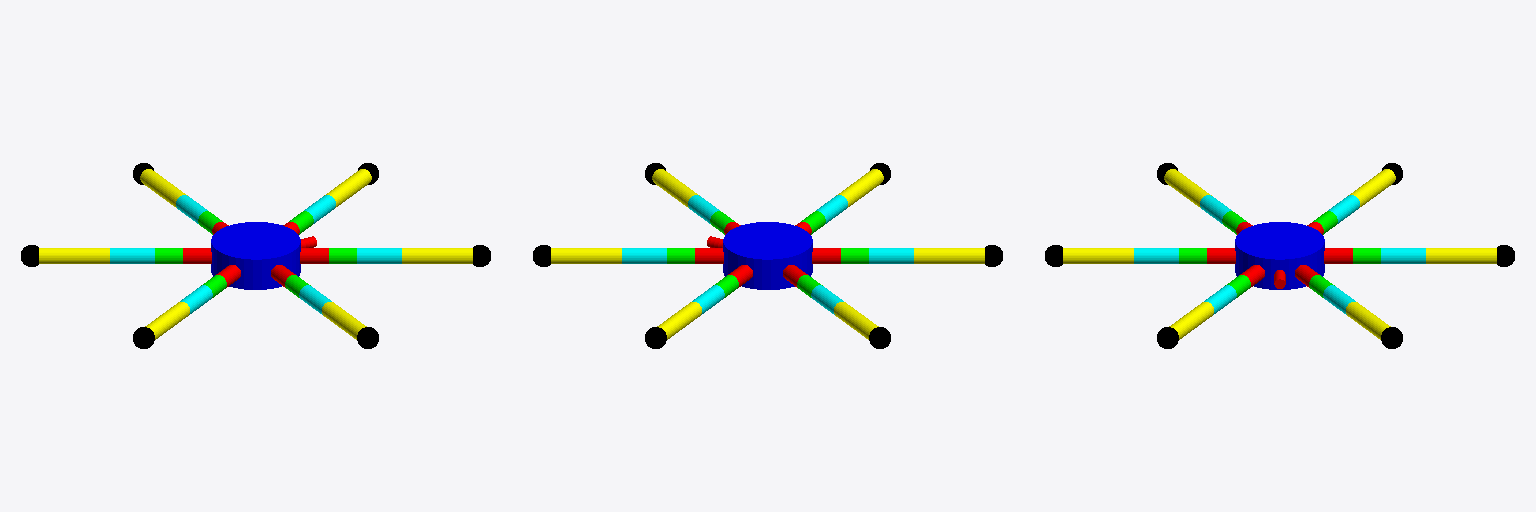
--- Facts derived from the render (not from the file) ---
The picture shows the robot from 3 angles, left to right: view 1: azimuth 30°, elevation 25°; view 2: azimuth 150°, elevation 25°; view 3: azimuth 270°, elevation 25°; orthographic projection.
Model hexapod with 37 links and 36 joints (18 revolute, 18 fixed), rooted at body, posed all joints at 0.
Links seen in each view (by area): view 1: body, d2, d5, d0, d1, d3, d4, c2, c5; view 2: body, d0, d3, d4, d5, d1, d2, c0, c3; view 3: body, d1, d4, d2, d3, d0, d5, c1, c4.
Boxes of the visible links, box(x1,y1,x2,y2) form: body: box(211, 222, 300, 289); d2: box(39, 248, 109, 263); d5: box(402, 248, 472, 263); d0: box(324, 169, 371, 207); d1: box(140, 169, 187, 207); d3: box(145, 302, 189, 339); d4: box(322, 302, 366, 339); c2: box(110, 248, 154, 263); c5: box(357, 248, 401, 263); body: box(723, 222, 812, 289); d0: box(551, 248, 621, 263); d3: box(914, 248, 984, 263); d4: box(836, 169, 883, 207); d5: box(652, 169, 699, 207); d1: box(657, 302, 701, 339); d2: box(834, 302, 878, 339); c0: box(622, 248, 666, 263); c3: box(869, 248, 913, 263); body: box(1235, 222, 1324, 289); d1: box(1426, 248, 1496, 263); d4: box(1063, 248, 1133, 263); d2: box(1348, 169, 1395, 207); d3: box(1164, 169, 1211, 207); d0: box(1346, 302, 1390, 339); d5: box(1169, 302, 1213, 339); c1: box(1381, 248, 1425, 263); c4: box(1134, 248, 1178, 263).
Bounding box of the posed robot: 0.7327 × 0.84 × 0.06 m (x, y, z).
Geometry: primitives only (box / cylinder / sphere), no mesh files.

The robot description file, URDF, robot "hexapod":

<robot name="hexapod">

  <link name="body">
    <visual>
      <geometry>
        <cylinder radius="0.08" length="0.06"/>
      </geometry>
      <origin xyz="0 0 0"/>
      <material name="blue">
        <color rgba="0 0 1 1"/>
      </material>
    </visual>
    <collision>
      <geometry>
        <cylinder radius="0.08" length="0.06"/>
      </geometry>
      <origin xyz="0 0 0"/>
    </collision>
    <inertial>
      <mass value="0.01"/>
      <inertia ixx="0.0001" ixy="0.0" ixz="0.0" iyy="0.0001" iyz="0.0" izz="0.0001"/>
    </inertial>
  </link>


    <link name="h0">
    <visual>
      <geometry>
        <cylinder radius="0.01" length="0.12"/>
      </geometry>
      <origin rpy="0 1.5707963267948966 0" xyz="0.06 0  0" />
      <material name="red">
        <color rgba="1 0 0 1"/>
      </material>
    </visual>
    <collision>
      <geometry>
        <cylinder radius="0.01" length="0.12"/>
      </geometry>
      <origin rpy="0 1.5707963267948966 0" xyz="0.06 0 0" />
    </collision>
    <inertial>
      <mass value="0.1"/>
      <inertia ixx="0.0001" ixy="0.0" ixz="0.0" iyy="0.0001" iyz="0.0" izz="0.0001"/>
    </inertial>
  </link>

  <joint name="h0_to_body" type="fixed">
    <origin rpy="0 0 0" xyz="0 0 0"/>
    <parent link="body"/>
    <child link="h0"/>
  </joint>

  
  <link name="a0">
    <visual>
      <geometry>
        <cylinder radius="0.015" length="0.13"/>
      </geometry>
      <origin rpy="0 1.5707963267948966 0" xyz="0.065 0  0" />
      <material name="red">
        <color rgba="1 0 0 1"/>
      </material>
    </visual>
    <collision>
      <geometry>
        <cylinder radius="0.015" length="0.13"/>
      </geometry>
      <origin rpy="0 1.5707963267948966 0" xyz="0.065 0 0" />
    </collision>
    <inertial>
      <mass value="0.1"/>
      <inertia ixx="0.0001" ixy="0.0" ixz="0.0" iyy="0.0001" iyz="0.0" izz="0.0001"/>
    </inertial>
  </link>

  <joint name="a0_to_body" type="fixed">
    <origin rpy="0 0 0.5235987755982988" xyz="0 0 0"/>
    <parent link="body"/>
    <child link="a0"/>
  </joint>

  <!-- B -->

  <link name="b0">
    <visual>
      <geometry>
        <cylinder radius="0.015" length="0.05"/>
      </geometry>
      <origin rpy="0 1.5707963267948966 0" xyz="0.025 0 0" />
      <material name="green">
        <color rgba="0 1 0 1"/>
      </material>
    </visual>
    <collision>
      <geometry>
        <cylinder radius="0.015" length="0.05"/>
      </geometry>
      <origin rpy="0 1.5707963267948966 0" xyz="0.025 0 0" />
    </collision>
    <inertial>
      <mass value="0.1"/>
      <inertia ixx="0.0001" ixy="0.0" ixz="0.0" iyy="0.0001" iyz="0.0" izz="0.0001"/>
    </inertial>

  </link>

  <joint name="u0" type="revolute">
    <origin rpy="0 0 0" xyz="0.13 0 0"/>
    <parent link="a0"/>
    <child link="b0"/>
    <axis xyz="0 0 1"/>
    <limit effort="100" lower="-3.14" upper="3.14"  velocity="100"/>
  </joint>

  <link name="c0">
    <visual>
      <geometry>
        <cylinder radius="0.015" length="0.08"/>
      </geometry>
      <origin rpy="0 1.5707963267948966 0" xyz="0.04 0 0" />
      <material name="cyan">
        <color rgba="0 1 1 1"/>
      </material>
    </visual>
    <collision>
      <geometry>
        <cylinder radius="0.015" length="0.08"/>
      </geometry>
      <origin rpy="0 1.5707963267948966 0" xyz="0.04 0 0" />
    </collision>
    <inertial>
      <mass value="0.1"/>
      <inertia ixx="0.0001" ixy="0.0" ixz="0.0" iyy="0.0001" iyz="0.0" izz="0.0001"/>
    </inertial>

  </link>

  <joint name="v0" type="revolute">
    <origin rpy="0 0 0" xyz="0.05 0 0"/>
    <parent link="b0"/>
    <child link="c0"/>
    <axis xyz="0 1 0"/>
    <limit effort="100" lower="-3.14" upper="3.14"  velocity="100"/>
  </joint>

  <link name="d0">
    <visual>
      <geometry>
        <cylinder radius="0.015" length="0.14"/>
      </geometry>
      <origin rpy="0 1.5707963267948966 0" xyz="0.07 0 0" />
      <material name="jaune">
        <color rgba="1 1 0 1"/>
      </material>
    </visual>
    <collision>
      <geometry>
        <cylinder radius="0.015" length="0.14"/>
      </geometry>
      <origin rpy="0 1.5707963267948966 0" xyz="0.07 0 0" />
    </collision>
    <inertial>
      <mass value="0.1"/>
      <inertia ixx="0.0001" ixy="0.0" ixz="0.0" iyy="0.0001" iyz="0.0" izz="0.0001"/>
    </inertial>

  </link>

  <joint name="w0" type="revolute">
    <origin rpy="0 0 0" xyz="0.08 0 0"/>
    <parent link="c0"/>
    <child link="d0"/>
    <axis xyz="0 1 0"/>
    <limit effort="100" lower="-3.14"  upper="3.14"  velocity="100"/>
  </joint>

  <link name="e0">
    <visual>
      <geometry>
        <sphere radius="0.02"/>
      </geometry>
      <origin rpy="0 0 0" xyz="0 0 0" />
      <material name="noir">
        <color rgba="0 0 0 1"/>
      </material>
    </visual>
    <collision>
      <geometry>
        <sphere radius="0.02"/>
      </geometry>
      <origin rpy="0 0 0" xyz="0 0 0" />
    </collision>
    <inertial>
      <mass value="0.01"/>
      <inertia ixx="0.0001" ixy="0.0" ixz="0.0" iyy="0.0001" iyz="0.0" izz="0.0001"/>
    </inertial>

  </link>

  <joint name="x0" type="fixed">
    <origin rpy="0 0 0" xyz="0.14 0 0"/>
    <parent link="d0"/>
    <child link="e0"/>
  </joint>


    <link name="h1">
    <visual>
      <geometry>
        <cylinder radius="0.01" length="0.12"/>
      </geometry>
      <origin rpy="0 1.5707963267948966 0" xyz="0.06 0  0" />
      <material name="red">
        <color rgba="1 0 0 1"/>
      </material>
    </visual>
    <collision>
      <geometry>
        <cylinder radius="0.01" length="0.12"/>
      </geometry>
      <origin rpy="0 1.5707963267948966 0" xyz="0.06 0 0" />
    </collision>
    <inertial>
      <mass value="0.1"/>
      <inertia ixx="0.0001" ixy="0.0" ixz="0.0" iyy="0.0001" iyz="0.0" izz="0.0001"/>
    </inertial>
  </link>

  <joint name="h1_to_body" type="fixed">
    <origin rpy="0 0 0" xyz="0 0 0"/>
    <parent link="body"/>
    <child link="h1"/>
  </joint>

  
  <link name="a1">
    <visual>
      <geometry>
        <cylinder radius="0.015" length="0.13"/>
      </geometry>
      <origin rpy="0 1.5707963267948966 0" xyz="0.065 0  0" />
      <material name="red">
        <color rgba="1 0 0 1"/>
      </material>
    </visual>
    <collision>
      <geometry>
        <cylinder radius="0.015" length="0.13"/>
      </geometry>
      <origin rpy="0 1.5707963267948966 0" xyz="0.065 0 0" />
    </collision>
    <inertial>
      <mass value="0.1"/>
      <inertia ixx="0.0001" ixy="0.0" ixz="0.0" iyy="0.0001" iyz="0.0" izz="0.0001"/>
    </inertial>
  </link>

  <joint name="a1_to_body" type="fixed">
    <origin rpy="0 0 1.5707963267948966" xyz="0 0 0"/>
    <parent link="body"/>
    <child link="a1"/>
  </joint>

  <!-- B -->

  <link name="b1">
    <visual>
      <geometry>
        <cylinder radius="0.015" length="0.05"/>
      </geometry>
      <origin rpy="0 1.5707963267948966 0" xyz="0.025 0 0" />
      <material name="green">
        <color rgba="0 1 0 1"/>
      </material>
    </visual>
    <collision>
      <geometry>
        <cylinder radius="0.015" length="0.05"/>
      </geometry>
      <origin rpy="0 1.5707963267948966 0" xyz="0.025 0 0" />
    </collision>
    <inertial>
      <mass value="0.1"/>
      <inertia ixx="0.0001" ixy="0.0" ixz="0.0" iyy="0.0001" iyz="0.0" izz="0.0001"/>
    </inertial>

  </link>

  <joint name="u1" type="revolute">
    <origin rpy="0 0 0" xyz="0.13 0 0"/>
    <parent link="a1"/>
    <child link="b1"/>
    <axis xyz="0 0 1"/>
    <limit effort="100" lower="-3.14" upper="3.14"  velocity="100"/>
  </joint>

  <link name="c1">
    <visual>
      <geometry>
        <cylinder radius="0.015" length="0.08"/>
      </geometry>
      <origin rpy="0 1.5707963267948966 0" xyz="0.04 0 0" />
      <material name="cyan">
        <color rgba="0 1 1 1"/>
      </material>
    </visual>
    <collision>
      <geometry>
        <cylinder radius="0.015" length="0.08"/>
      </geometry>
      <origin rpy="0 1.5707963267948966 0" xyz="0.04 0 0" />
    </collision>
    <inertial>
      <mass value="0.1"/>
      <inertia ixx="0.0001" ixy="0.0" ixz="0.0" iyy="0.0001" iyz="0.0" izz="0.0001"/>
    </inertial>

  </link>

  <joint name="v1" type="revolute">
    <origin rpy="0 0 0" xyz="0.05 0 0"/>
    <parent link="b1"/>
    <child link="c1"/>
    <axis xyz="0 1 0"/>
    <limit effort="100" lower="-3.14" upper="3.14"  velocity="100"/>
  </joint>

  <link name="d1">
    <visual>
      <geometry>
        <cylinder radius="0.015" length="0.14"/>
      </geometry>
      <origin rpy="0 1.5707963267948966 0" xyz="0.07 0 0" />
      <material name="jaune">
        <color rgba="1 1 0 1"/>
      </material>
    </visual>
    <collision>
      <geometry>
        <cylinder radius="0.015" length="0.14"/>
      </geometry>
      <origin rpy="0 1.5707963267948966 0" xyz="0.07 0 0" />
    </collision>
    <inertial>
      <mass value="0.1"/>
      <inertia ixx="0.0001" ixy="0.0" ixz="0.0" iyy="0.0001" iyz="0.0" izz="0.0001"/>
    </inertial>

  </link>

  <joint name="w1" type="revolute">
    <origin rpy="0 0 0" xyz="0.08 0 0"/>
    <parent link="c1"/>
    <child link="d1"/>
    <axis xyz="0 1 0"/>
    <limit effort="100" lower="-3.14"  upper="3.14"  velocity="100"/>
  </joint>

  <link name="e1">
    <visual>
      <geometry>
        <sphere radius="0.02"/>
      </geometry>
      <origin rpy="0 0 0" xyz="0 0 0" />
      <material name="noir">
        <color rgba="0 0 0 1"/>
      </material>
    </visual>
    <collision>
      <geometry>
        <sphere radius="0.02"/>
      </geometry>
      <origin rpy="0 0 0" xyz="0 0 0" />
    </collision>
    <inertial>
      <mass value="0.01"/>
      <inertia ixx="0.0001" ixy="0.0" ixz="0.0" iyy="0.0001" iyz="0.0" izz="0.0001"/>
    </inertial>

  </link>

  <joint name="x1" type="fixed">
    <origin rpy="0 0 0" xyz="0.14 0 0"/>
    <parent link="d1"/>
    <child link="e1"/>
  </joint>


    <link name="h2">
    <visual>
      <geometry>
        <cylinder radius="0.01" length="0.12"/>
      </geometry>
      <origin rpy="0 1.5707963267948966 0" xyz="0.06 0  0" />
      <material name="red">
        <color rgba="1 0 0 1"/>
      </material>
    </visual>
    <collision>
      <geometry>
        <cylinder radius="0.01" length="0.12"/>
      </geometry>
      <origin rpy="0 1.5707963267948966 0" xyz="0.06 0 0" />
    </collision>
    <inertial>
      <mass value="0.1"/>
      <inertia ixx="0.0001" ixy="0.0" ixz="0.0" iyy="0.0001" iyz="0.0" izz="0.0001"/>
    </inertial>
  </link>

  <joint name="h2_to_body" type="fixed">
    <origin rpy="0 0 0" xyz="0 0 0"/>
    <parent link="body"/>
    <child link="h2"/>
  </joint>

  
  <link name="a2">
    <visual>
      <geometry>
        <cylinder radius="0.015" length="0.13"/>
      </geometry>
      <origin rpy="0 1.5707963267948966 0" xyz="0.065 0  0" />
      <material name="red">
        <color rgba="1 0 0 1"/>
      </material>
    </visual>
    <collision>
      <geometry>
        <cylinder radius="0.015" length="0.13"/>
      </geometry>
      <origin rpy="0 1.5707963267948966 0" xyz="0.065 0 0" />
    </collision>
    <inertial>
      <mass value="0.1"/>
      <inertia ixx="0.0001" ixy="0.0" ixz="0.0" iyy="0.0001" iyz="0.0" izz="0.0001"/>
    </inertial>
  </link>

  <joint name="a2_to_body" type="fixed">
    <origin rpy="0 0 2.617993877991494" xyz="0 0 0"/>
    <parent link="body"/>
    <child link="a2"/>
  </joint>

  <!-- B -->

  <link name="b2">
    <visual>
      <geometry>
        <cylinder radius="0.015" length="0.05"/>
      </geometry>
      <origin rpy="0 1.5707963267948966 0" xyz="0.025 0 0" />
      <material name="green">
        <color rgba="0 1 0 1"/>
      </material>
    </visual>
    <collision>
      <geometry>
        <cylinder radius="0.015" length="0.05"/>
      </geometry>
      <origin rpy="0 1.5707963267948966 0" xyz="0.025 0 0" />
    </collision>
    <inertial>
      <mass value="0.1"/>
      <inertia ixx="0.0001" ixy="0.0" ixz="0.0" iyy="0.0001" iyz="0.0" izz="0.0001"/>
    </inertial>

  </link>

  <joint name="u2" type="revolute">
    <origin rpy="0 0 0" xyz="0.13 0 0"/>
    <parent link="a2"/>
    <child link="b2"/>
    <axis xyz="0 0 1"/>
    <limit effort="100" lower="-3.14" upper="3.14"  velocity="100"/>
  </joint>

  <link name="c2">
    <visual>
      <geometry>
        <cylinder radius="0.015" length="0.08"/>
      </geometry>
      <origin rpy="0 1.5707963267948966 0" xyz="0.04 0 0" />
      <material name="cyan">
        <color rgba="0 1 1 1"/>
      </material>
    </visual>
    <collision>
      <geometry>
        <cylinder radius="0.015" length="0.08"/>
      </geometry>
      <origin rpy="0 1.5707963267948966 0" xyz="0.04 0 0" />
    </collision>
    <inertial>
      <mass value="0.1"/>
      <inertia ixx="0.0001" ixy="0.0" ixz="0.0" iyy="0.0001" iyz="0.0" izz="0.0001"/>
    </inertial>

  </link>

  <joint name="v2" type="revolute">
    <origin rpy="0 0 0" xyz="0.05 0 0"/>
    <parent link="b2"/>
    <child link="c2"/>
    <axis xyz="0 1 0"/>
    <limit effort="100" lower="-3.14" upper="3.14"  velocity="100"/>
  </joint>

  <link name="d2">
    <visual>
      <geometry>
        <cylinder radius="0.015" length="0.14"/>
      </geometry>
      <origin rpy="0 1.5707963267948966 0" xyz="0.07 0 0" />
      <material name="jaune">
        <color rgba="1 1 0 1"/>
      </material>
    </visual>
    <collision>
      <geometry>
        <cylinder radius="0.015" length="0.14"/>
      </geometry>
      <origin rpy="0 1.5707963267948966 0" xyz="0.07 0 0" />
    </collision>
    <inertial>
      <mass value="0.1"/>
      <inertia ixx="0.0001" ixy="0.0" ixz="0.0" iyy="0.0001" iyz="0.0" izz="0.0001"/>
    </inertial>

  </link>

  <joint name="w2" type="revolute">
    <origin rpy="0 0 0" xyz="0.08 0 0"/>
    <parent link="c2"/>
    <child link="d2"/>
    <axis xyz="0 1 0"/>
    <limit effort="100" lower="-3.14"  upper="3.14"  velocity="100"/>
  </joint>

  <link name="e2">
    <visual>
      <geometry>
        <sphere radius="0.02"/>
      </geometry>
      <origin rpy="0 0 0" xyz="0 0 0" />
      <material name="noir">
        <color rgba="0 0 0 1"/>
      </material>
    </visual>
    <collision>
      <geometry>
        <sphere radius="0.02"/>
      </geometry>
      <origin rpy="0 0 0" xyz="0 0 0" />
    </collision>
    <inertial>
      <mass value="0.01"/>
      <inertia ixx="0.0001" ixy="0.0" ixz="0.0" iyy="0.0001" iyz="0.0" izz="0.0001"/>
    </inertial>

  </link>

  <joint name="x2" type="fixed">
    <origin rpy="0 0 0" xyz="0.14 0 0"/>
    <parent link="d2"/>
    <child link="e2"/>
  </joint>


    <link name="h3">
    <visual>
      <geometry>
        <cylinder radius="0.01" length="0.12"/>
      </geometry>
      <origin rpy="0 1.5707963267948966 0" xyz="0.06 0  0" />
      <material name="red">
        <color rgba="1 0 0 1"/>
      </material>
    </visual>
    <collision>
      <geometry>
        <cylinder radius="0.01" length="0.12"/>
      </geometry>
      <origin rpy="0 1.5707963267948966 0" xyz="0.06 0 0" />
    </collision>
    <inertial>
      <mass value="0.1"/>
      <inertia ixx="0.0001" ixy="0.0" ixz="0.0" iyy="0.0001" iyz="0.0" izz="0.0001"/>
    </inertial>
  </link>

  <joint name="h3_to_body" type="fixed">
    <origin rpy="0 0 0" xyz="0 0 0"/>
    <parent link="body"/>
    <child link="h3"/>
  </joint>

  
  <link name="a3">
    <visual>
      <geometry>
        <cylinder radius="0.015" length="0.13"/>
      </geometry>
      <origin rpy="0 1.5707963267948966 0" xyz="0.065 0  0" />
      <material name="red">
        <color rgba="1 0 0 1"/>
      </material>
    </visual>
    <collision>
      <geometry>
        <cylinder radius="0.015" length="0.13"/>
      </geometry>
      <origin rpy="0 1.5707963267948966 0" xyz="0.065 0 0" />
    </collision>
    <inertial>
      <mass value="0.1"/>
      <inertia ixx="0.0001" ixy="0.0" ixz="0.0" iyy="0.0001" iyz="0.0" izz="0.0001"/>
    </inertial>
  </link>

  <joint name="a3_to_body" type="fixed">
    <origin rpy="0 0 3.665191429188092" xyz="0 0 0"/>
    <parent link="body"/>
    <child link="a3"/>
  </joint>

  <!-- B -->

  <link name="b3">
    <visual>
      <geometry>
        <cylinder radius="0.015" length="0.05"/>
      </geometry>
      <origin rpy="0 1.5707963267948966 0" xyz="0.025 0 0" />
      <material name="green">
        <color rgba="0 1 0 1"/>
      </material>
    </visual>
    <collision>
      <geometry>
        <cylinder radius="0.015" length="0.05"/>
      </geometry>
      <origin rpy="0 1.5707963267948966 0" xyz="0.025 0 0" />
    </collision>
    <inertial>
      <mass value="0.1"/>
      <inertia ixx="0.0001" ixy="0.0" ixz="0.0" iyy="0.0001" iyz="0.0" izz="0.0001"/>
    </inertial>

  </link>

  <joint name="u3" type="revolute">
    <origin rpy="0 0 0" xyz="0.13 0 0"/>
    <parent link="a3"/>
    <child link="b3"/>
    <axis xyz="0 0 1"/>
    <limit effort="100" lower="-3.14" upper="3.14"  velocity="100"/>
  </joint>

  <link name="c3">
    <visual>
      <geometry>
        <cylinder radius="0.015" length="0.08"/>
      </geometry>
      <origin rpy="0 1.5707963267948966 0" xyz="0.04 0 0" />
      <material name="cyan">
        <color rgba="0 1 1 1"/>
      </material>
    </visual>
    <collision>
      <geometry>
        <cylinder radius="0.015" length="0.08"/>
      </geometry>
      <origin rpy="0 1.5707963267948966 0" xyz="0.04 0 0" />
    </collision>
    <inertial>
      <mass value="0.1"/>
      <inertia ixx="0.0001" ixy="0.0" ixz="0.0" iyy="0.0001" iyz="0.0" izz="0.0001"/>
    </inertial>

  </link>

  <joint name="v3" type="revolute">
    <origin rpy="0 0 0" xyz="0.05 0 0"/>
    <parent link="b3"/>
    <child link="c3"/>
    <axis xyz="0 1 0"/>
    <limit effort="100" lower="-3.14" upper="3.14"  velocity="100"/>
  </joint>

  <link name="d3">
    <visual>
      <geometry>
        <cylinder radius="0.015" length="0.14"/>
      </geometry>
      <origin rpy="0 1.5707963267948966 0" xyz="0.07 0 0" />
      <material name="jaune">
        <color rgba="1 1 0 1"/>
      </material>
    </visual>
    <collision>
      <geometry>
        <cylinder radius="0.015" length="0.14"/>
      </geometry>
      <origin rpy="0 1.5707963267948966 0" xyz="0.07 0 0" />
    </collision>
    <inertial>
      <mass value="0.1"/>
      <inertia ixx="0.0001" ixy="0.0" ixz="0.0" iyy="0.0001" iyz="0.0" izz="0.0001"/>
    </inertial>

  </link>

  <joint name="w3" type="revolute">
    <origin rpy="0 0 0" xyz="0.08 0 0"/>
    <parent link="c3"/>
    <child link="d3"/>
    <axis xyz="0 1 0"/>
    <limit effort="100" lower="-3.14"  upper="3.14"  velocity="100"/>
  </joint>

  <link name="e3">
    <visual>
      <geometry>
        <sphere radius="0.02"/>
      </geometry>
      <origin rpy="0 0 0" xyz="0 0 0" />
      <material name="noir">
        <color rgba="0 0 0 1"/>
      </material>
    </visual>
    <collision>
      <geometry>
        <sphere radius="0.02"/>
      </geometry>
      <origin rpy="0 0 0" xyz="0 0 0" />
    </collision>
    <inertial>
      <mass value="0.01"/>
      <inertia ixx="0.0001" ixy="0.0" ixz="0.0" iyy="0.0001" iyz="0.0" izz="0.0001"/>
    </inertial>

  </link>

  <joint name="x3" type="fixed">
    <origin rpy="0 0 0" xyz="0.14 0 0"/>
    <parent link="d3"/>
    <child link="e3"/>
  </joint>


    <link name="h4">
    <visual>
      <geometry>
        <cylinder radius="0.01" length="0.12"/>
      </geometry>
      <origin rpy="0 1.5707963267948966 0" xyz="0.06 0  0" />
      <material name="red">
        <color rgba="1 0 0 1"/>
      </material>
    </visual>
    <collision>
      <geometry>
        <cylinder radius="0.01" length="0.12"/>
      </geometry>
      <origin rpy="0 1.5707963267948966 0" xyz="0.06 0 0" />
    </collision>
    <inertial>
      <mass value="0.1"/>
      <inertia ixx="0.0001" ixy="0.0" ixz="0.0" iyy="0.0001" iyz="0.0" izz="0.0001"/>
    </inertial>
  </link>

  <joint name="h4_to_body" type="fixed">
    <origin rpy="0 0 0" xyz="0 0 0"/>
    <parent link="body"/>
    <child link="h4"/>
  </joint>

  
  <link name="a4">
    <visual>
      <geometry>
        <cylinder radius="0.015" length="0.13"/>
      </geometry>
      <origin rpy="0 1.5707963267948966 0" xyz="0.065 0  0" />
      <material name="red">
        <color rgba="1 0 0 1"/>
      </material>
    </visual>
    <collision>
      <geometry>
        <cylinder radius="0.015" length="0.13"/>
      </geometry>
      <origin rpy="0 1.5707963267948966 0" xyz="0.065 0 0" />
    </collision>
    <inertial>
      <mass value="0.1"/>
      <inertia ixx="0.0001" ixy="0.0" ixz="0.0" iyy="0.0001" iyz="0.0" izz="0.0001"/>
    </inertial>
  </link>

  <joint name="a4_to_body" type="fixed">
    <origin rpy="0 0 4.71238898038469" xyz="0 0 0"/>
    <parent link="body"/>
    <child link="a4"/>
  </joint>

  <!-- B -->

  <link name="b4">
    <visual>
      <geometry>
        <cylinder radius="0.015" length="0.05"/>
      </geometry>
      <origin rpy="0 1.5707963267948966 0" xyz="0.025 0 0" />
      <material name="green">
        <color rgba="0 1 0 1"/>
      </material>
    </visual>
    <collision>
      <geometry>
        <cylinder radius="0.015" length="0.05"/>
      </geometry>
      <origin rpy="0 1.5707963267948966 0" xyz="0.025 0 0" />
    </collision>
    <inertial>
      <mass value="0.1"/>
      <inertia ixx="0.0001" ixy="0.0" ixz="0.0" iyy="0.0001" iyz="0.0" izz="0.0001"/>
    </inertial>

  </link>

  <joint name="u4" type="revolute">
    <origin rpy="0 0 0" xyz="0.13 0 0"/>
    <parent link="a4"/>
    <child link="b4"/>
    <axis xyz="0 0 1"/>
    <limit effort="100" lower="-3.14" upper="3.14"  velocity="100"/>
  </joint>

  <link name="c4">
    <visual>
      <geometry>
        <cylinder radius="0.015" length="0.08"/>
      </geometry>
      <origin rpy="0 1.5707963267948966 0" xyz="0.04 0 0" />
      <material name="cyan">
        <color rgba="0 1 1 1"/>
      </material>
    </visual>
    <collision>
      <geometry>
        <cylinder radius="0.015" length="0.08"/>
      </geometry>
      <origin rpy="0 1.5707963267948966 0" xyz="0.04 0 0" />
    </collision>
    <inertial>
      <mass value="0.1"/>
      <inertia ixx="0.0001" ixy="0.0" ixz="0.0" iyy="0.0001" iyz="0.0" izz="0.0001"/>
    </inertial>

  </link>

  <joint name="v4" type="revolute">
    <origin rpy="0 0 0" xyz="0.05 0 0"/>
    <parent link="b4"/>
    <child link="c4"/>
    <axis xyz="0 1 0"/>
    <limit effort="100" lower="-3.14" upper="3.14"  velocity="100"/>
  </joint>

  <link name="d4">
    <visual>
      <geometry>
        <cylinder radius="0.015" length="0.14"/>
      </geometry>
      <origin rpy="0 1.5707963267948966 0" xyz="0.07 0 0" />
      <material name="jaune">
        <color rgba="1 1 0 1"/>
      </material>
    </visual>
    <collision>
      <geometry>
        <cylinder radius="0.015" length="0.14"/>
      </geometry>
      <origin rpy="0 1.5707963267948966 0" xyz="0.07 0 0" />
    </collision>
    <inertial>
      <mass value="0.1"/>
      <inertia ixx="0.0001" ixy="0.0" ixz="0.0" iyy="0.0001" iyz="0.0" izz="0.0001"/>
    </inertial>

  </link>

  <joint name="w4" type="revolute">
    <origin rpy="0 0 0" xyz="0.08 0 0"/>
    <parent link="c4"/>
    <child link="d4"/>
    <axis xyz="0 1 0"/>
    <limit effort="100" lower="-3.14"  upper="3.14"  velocity="100"/>
  </joint>

  <link name="e4">
    <visual>
      <geometry>
        <sphere radius="0.02"/>
      </geometry>
      <origin rpy="0 0 0" xyz="0 0 0" />
      <material name="noir">
        <color rgba="0 0 0 1"/>
      </material>
    </visual>
    <collision>
      <geometry>
        <sphere radius="0.02"/>
      </geometry>
      <origin rpy="0 0 0" xyz="0 0 0" />
    </collision>
    <inertial>
      <mass value="0.01"/>
      <inertia ixx="0.0001" ixy="0.0" ixz="0.0" iyy="0.0001" iyz="0.0" izz="0.0001"/>
    </inertial>

  </link>

  <joint name="x4" type="fixed">
    <origin rpy="0 0 0" xyz="0.14 0 0"/>
    <parent link="d4"/>
    <child link="e4"/>
  </joint>


    <link name="h5">
    <visual>
      <geometry>
        <cylinder radius="0.01" length="0.12"/>
      </geometry>
      <origin rpy="0 1.5707963267948966 0" xyz="0.06 0  0" />
      <material name="red">
        <color rgba="1 0 0 1"/>
      </material>
    </visual>
    <collision>
      <geometry>
        <cylinder radius="0.01" length="0.12"/>
      </geometry>
      <origin rpy="0 1.5707963267948966 0" xyz="0.06 0 0" />
    </collision>
    <inertial>
      <mass value="0.1"/>
      <inertia ixx="0.0001" ixy="0.0" ixz="0.0" iyy="0.0001" iyz="0.0" izz="0.0001"/>
    </inertial>
  </link>

  <joint name="h5_to_body" type="fixed">
    <origin rpy="0 0 0" xyz="0 0 0"/>
    <parent link="body"/>
    <child link="h5"/>
  </joint>

  
  <link name="a5">
    <visual>
      <geometry>
        <cylinder radius="0.015" length="0.13"/>
      </geometry>
      <origin rpy="0 1.5707963267948966 0" xyz="0.065 0  0" />
      <material name="red">
        <color rgba="1 0 0 1"/>
      </material>
    </visual>
    <collision>
      <geometry>
        <cylinder radius="0.015" length="0.13"/>
      </geometry>
      <origin rpy="0 1.5707963267948966 0" xyz="0.065 0 0" />
    </collision>
    <inertial>
      <mass value="0.1"/>
      <inertia ixx="0.0001" ixy="0.0" ixz="0.0" iyy="0.0001" iyz="0.0" izz="0.0001"/>
    </inertial>
  </link>

  <joint name="a5_to_body" type="fixed">
    <origin rpy="0 0 5.759586531581287" xyz="0 0 0"/>
    <parent link="body"/>
    <child link="a5"/>
  </joint>

  <!-- B -->

  <link name="b5">
    <visual>
      <geometry>
        <cylinder radius="0.015" length="0.05"/>
      </geometry>
      <origin rpy="0 1.5707963267948966 0" xyz="0.025 0 0" />
      <material name="green">
        <color rgba="0 1 0 1"/>
      </material>
    </visual>
    <collision>
      <geometry>
        <cylinder radius="0.015" length="0.05"/>
      </geometry>
      <origin rpy="0 1.5707963267948966 0" xyz="0.025 0 0" />
    </collision>
    <inertial>
      <mass value="0.1"/>
      <inertia ixx="0.0001" ixy="0.0" ixz="0.0" iyy="0.0001" iyz="0.0" izz="0.0001"/>
    </inertial>

  </link>

  <joint name="u5" type="revolute">
    <origin rpy="0 0 0" xyz="0.13 0 0"/>
    <parent link="a5"/>
    <child link="b5"/>
    <axis xyz="0 0 1"/>
    <limit effort="100" lower="-3.14" upper="3.14"  velocity="100"/>
  </joint>

  <link name="c5">
    <visual>
      <geometry>
        <cylinder radius="0.015" length="0.08"/>
      </geometry>
      <origin rpy="0 1.5707963267948966 0" xyz="0.04 0 0" />
      <material name="cyan">
        <color rgba="0 1 1 1"/>
      </material>
    </visual>
    <collision>
      <geometry>
        <cylinder radius="0.015" length="0.08"/>
      </geometry>
      <origin rpy="0 1.5707963267948966 0" xyz="0.04 0 0" />
    </collision>
    <inertial>
      <mass value="0.1"/>
      <inertia ixx="0.0001" ixy="0.0" ixz="0.0" iyy="0.0001" iyz="0.0" izz="0.0001"/>
    </inertial>

  </link>

  <joint name="v5" type="revolute">
    <origin rpy="0 0 0" xyz="0.05 0 0"/>
    <parent link="b5"/>
    <child link="c5"/>
    <axis xyz="0 1 0"/>
    <limit effort="100" lower="-3.14" upper="3.14"  velocity="100"/>
  </joint>

  <link name="d5">
    <visual>
      <geometry>
        <cylinder radius="0.015" length="0.14"/>
      </geometry>
      <origin rpy="0 1.5707963267948966 0" xyz="0.07 0 0" />
      <material name="jaune">
        <color rgba="1 1 0 1"/>
      </material>
    </visual>
    <collision>
      <geometry>
        <cylinder radius="0.015" length="0.14"/>
      </geometry>
      <origin rpy="0 1.5707963267948966 0" xyz="0.07 0 0" />
    </collision>
    <inertial>
      <mass value="0.1"/>
      <inertia ixx="0.0001" ixy="0.0" ixz="0.0" iyy="0.0001" iyz="0.0" izz="0.0001"/>
    </inertial>

  </link>

  <joint name="w5" type="revolute">
    <origin rpy="0 0 0" xyz="0.08 0 0"/>
    <parent link="c5"/>
    <child link="d5"/>
    <axis xyz="0 1 0"/>
    <limit effort="100" lower="-3.14"  upper="3.14"  velocity="100"/>
  </joint>

  <link name="e5">
    <visual>
      <geometry>
        <sphere radius="0.02"/>
      </geometry>
      <origin rpy="0 0 0" xyz="0 0 0" />
      <material name="noir">
        <color rgba="0 0 0 1"/>
      </material>
    </visual>
    <collision>
      <geometry>
        <sphere radius="0.02"/>
      </geometry>
      <origin rpy="0 0 0" xyz="0 0 0" />
    </collision>
    <inertial>
      <mass value="0.01"/>
      <inertia ixx="0.0001" ixy="0.0" ixz="0.0" iyy="0.0001" iyz="0.0" izz="0.0001"/>
    </inertial>

  </link>

  <joint name="x5" type="fixed">
    <origin rpy="0 0 0" xyz="0.14 0 0"/>
    <parent link="d5"/>
    <child link="e5"/>
  </joint>

</robot>
